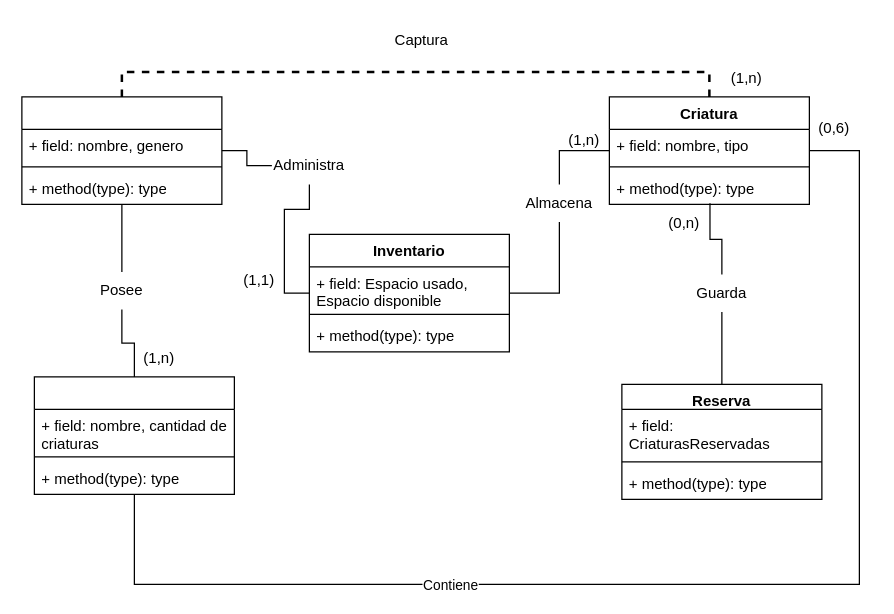
Some shapes in this 894 by 614 pixel diagram are drawn without their labels. The shapes that lost their labels are listed below. From the top down, each one's box as (x1, y1, x2, y2) in pixels, then its label:
(21, 96, 222, 204): Entrenador
(33, 376, 234, 494): Equipo
